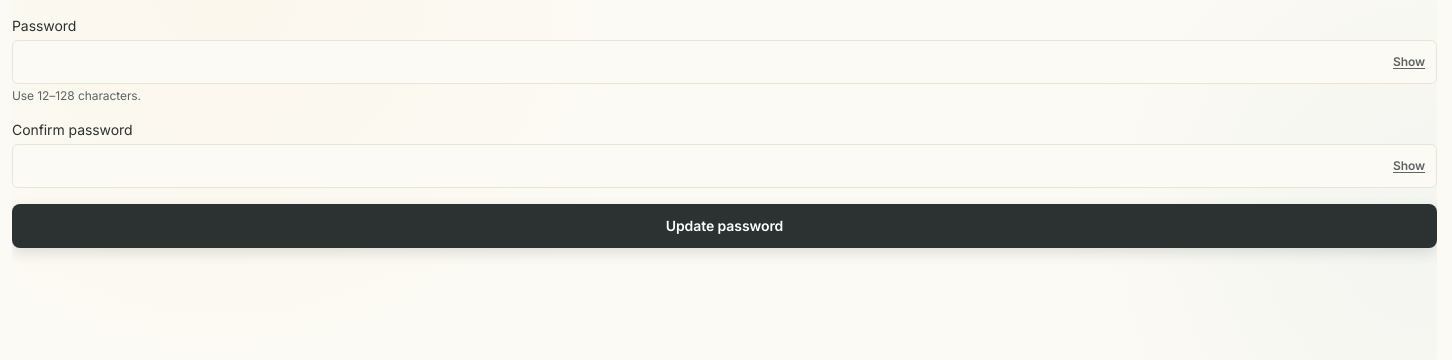
customer authentication forms › passes reset confirmation as a distinct field and offers account navigation after success
This screenshot has width=1452, height=360.
Type "new-password!" into the password field labelled "Password".
click(724, 62); type("new-password!")  # box [12,40,1437,84]
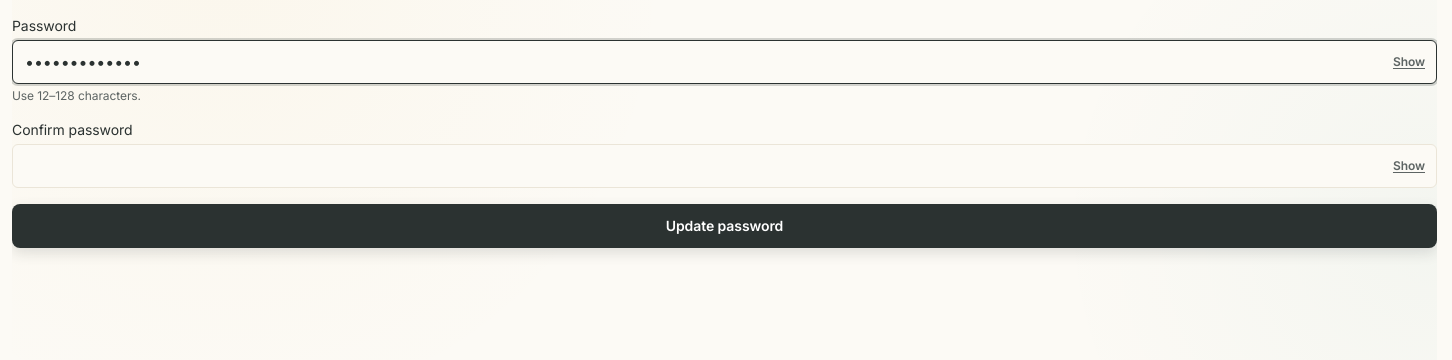
Type "new-password!" into the password field labelled "Confirm password".
click(724, 166); type("new-password!")  # box [12,144,1437,188]
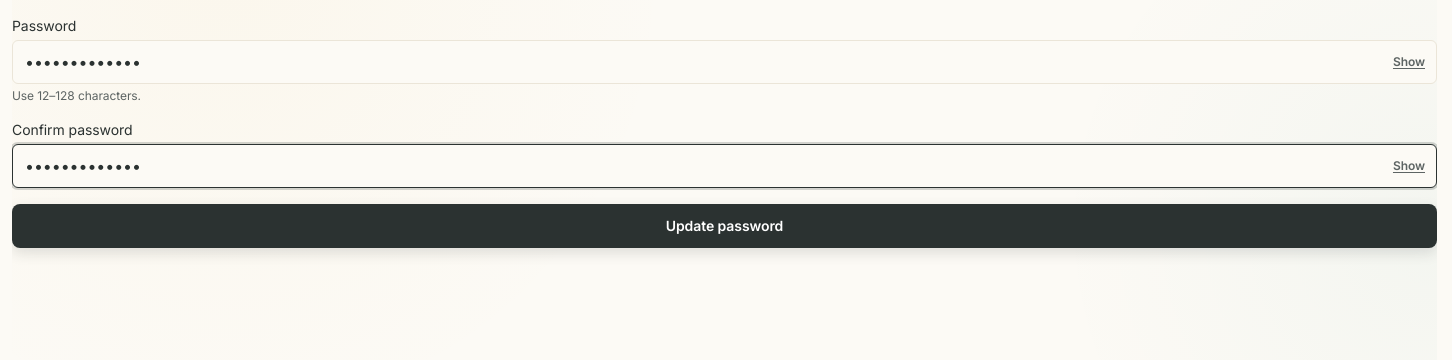
Click the button "Update password".
click(724, 226)  # box [12,204,1437,248]
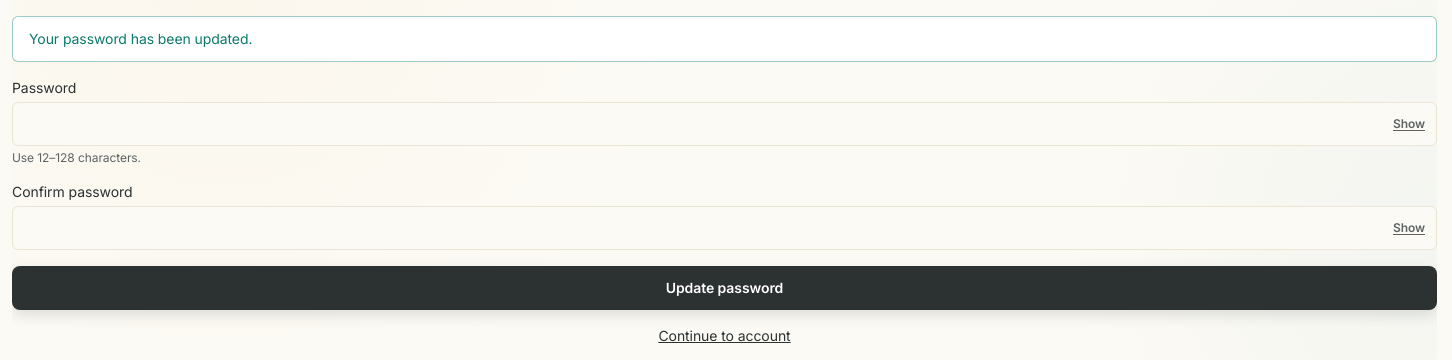
Now the message shows "updated", box [29,30,252,47]
